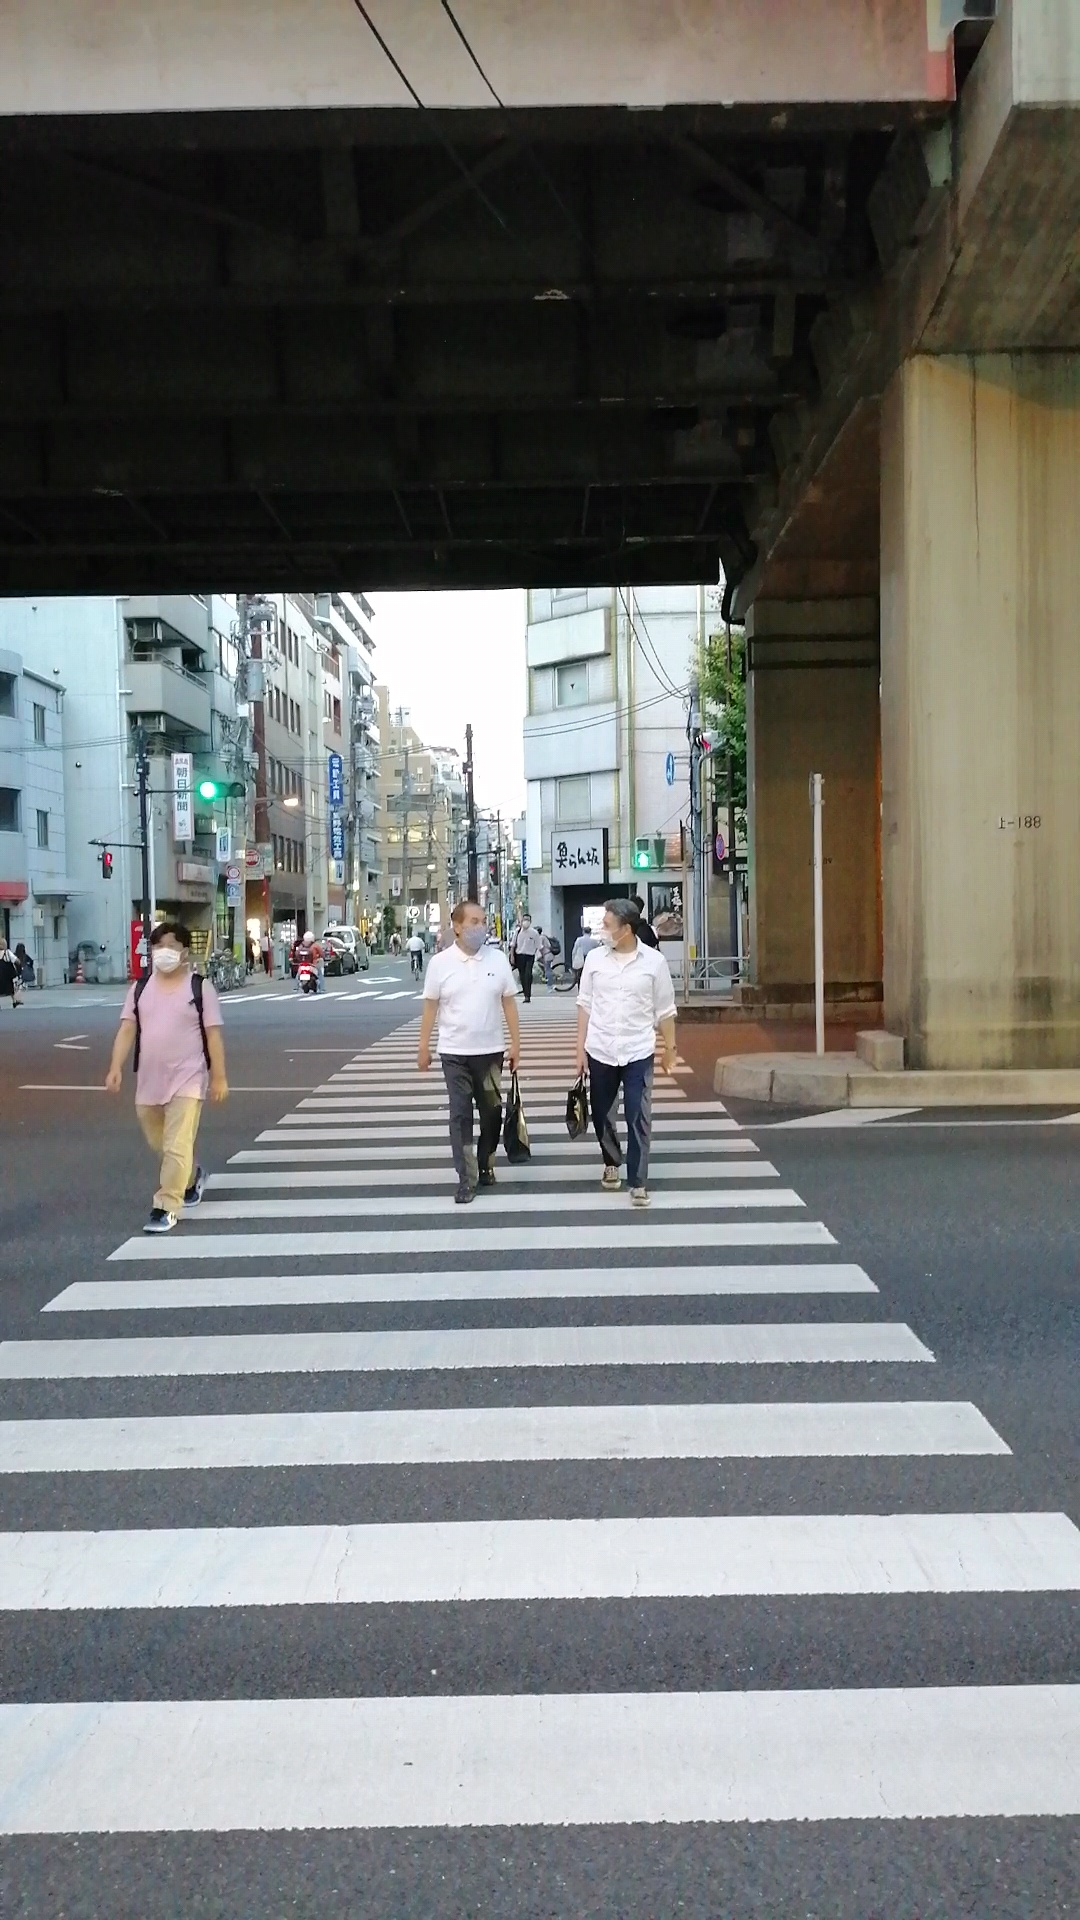green: (632, 836, 651, 872)
